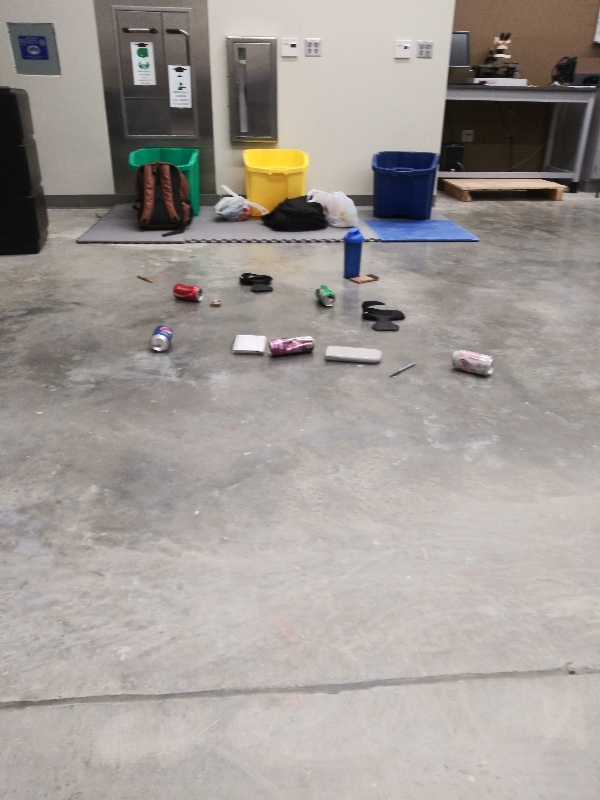can: (448, 346, 499, 380), (267, 333, 318, 360), (148, 323, 174, 354), (172, 281, 205, 304), (314, 282, 338, 308)
